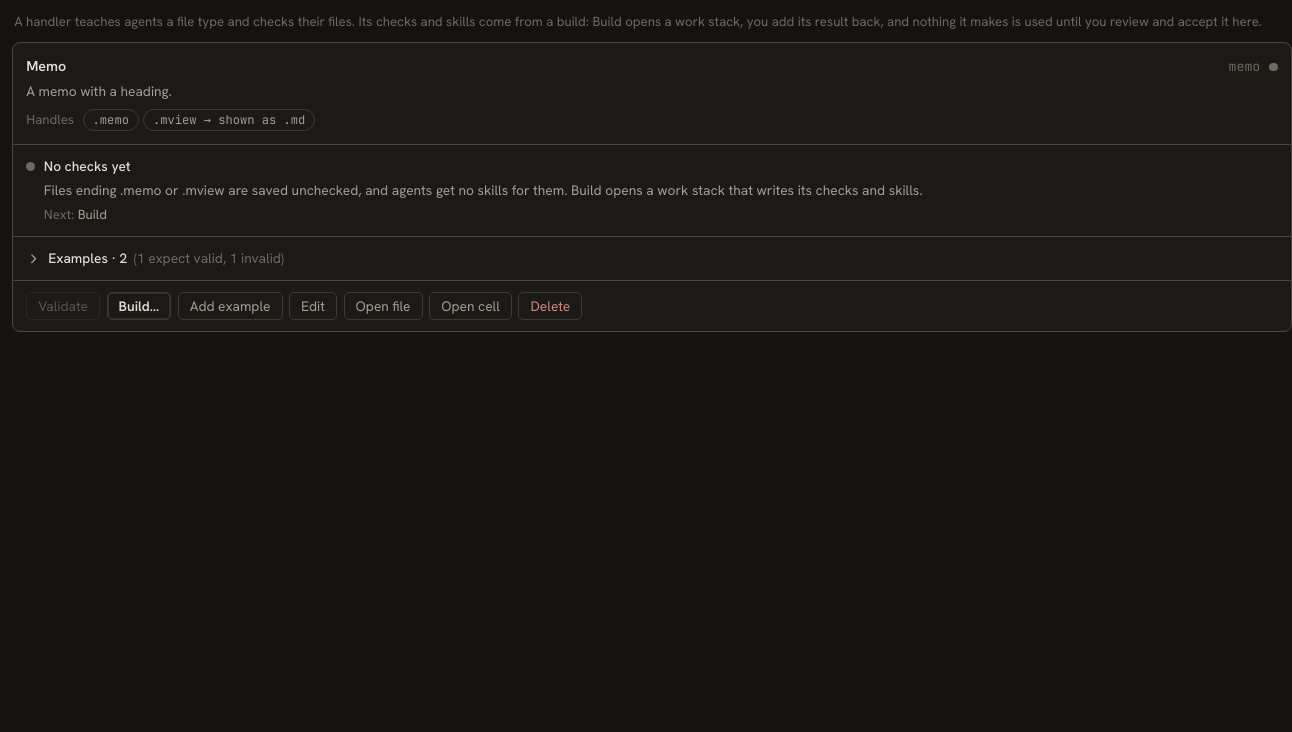
Test case: A user handler’s card › a failed spawn stays on the card as an alert
The image size is (1292, 732).
expect the element named "Memo handler" is shown: met, box top-left (12, 42), bottom-right (1291, 332)
Click the button "Build…" at (139, 306), box top-left (107, 292), bottom-right (171, 320)
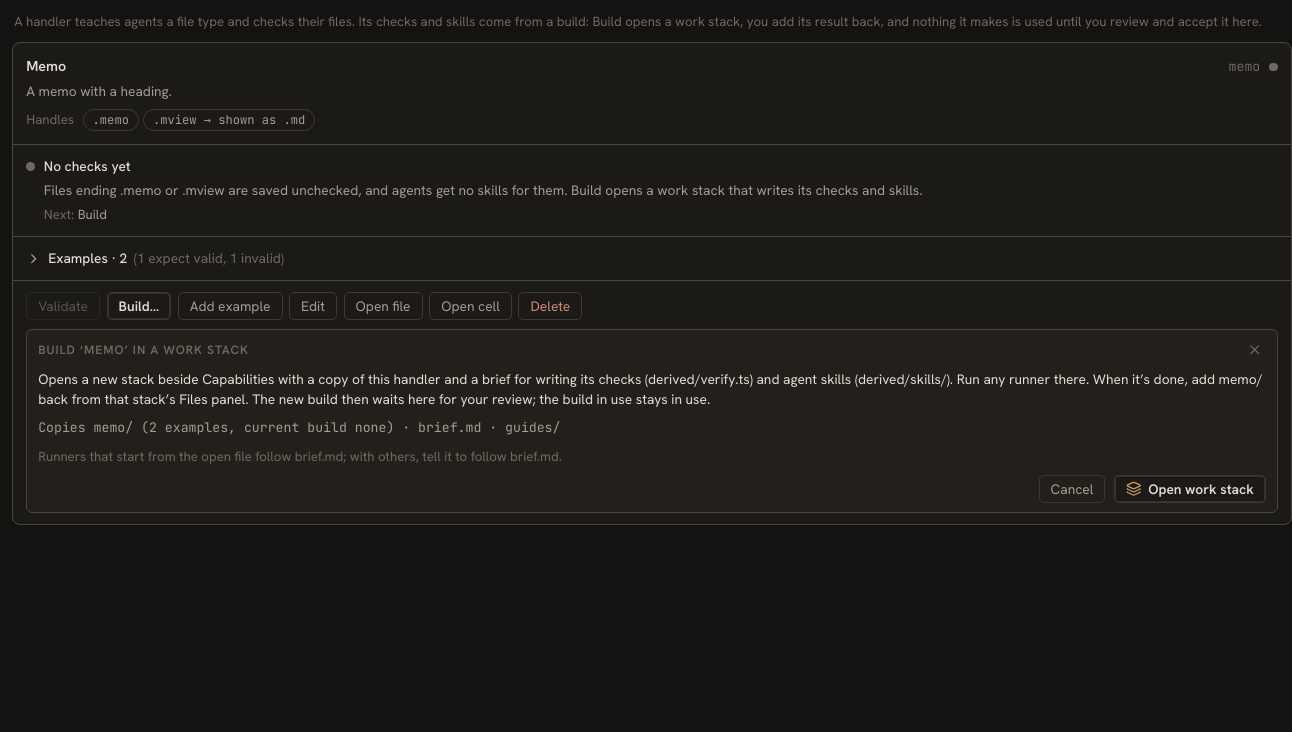
Click the button "Open work stack" at (1190, 489), box top-left (1114, 475), bottom-right (1266, 503)
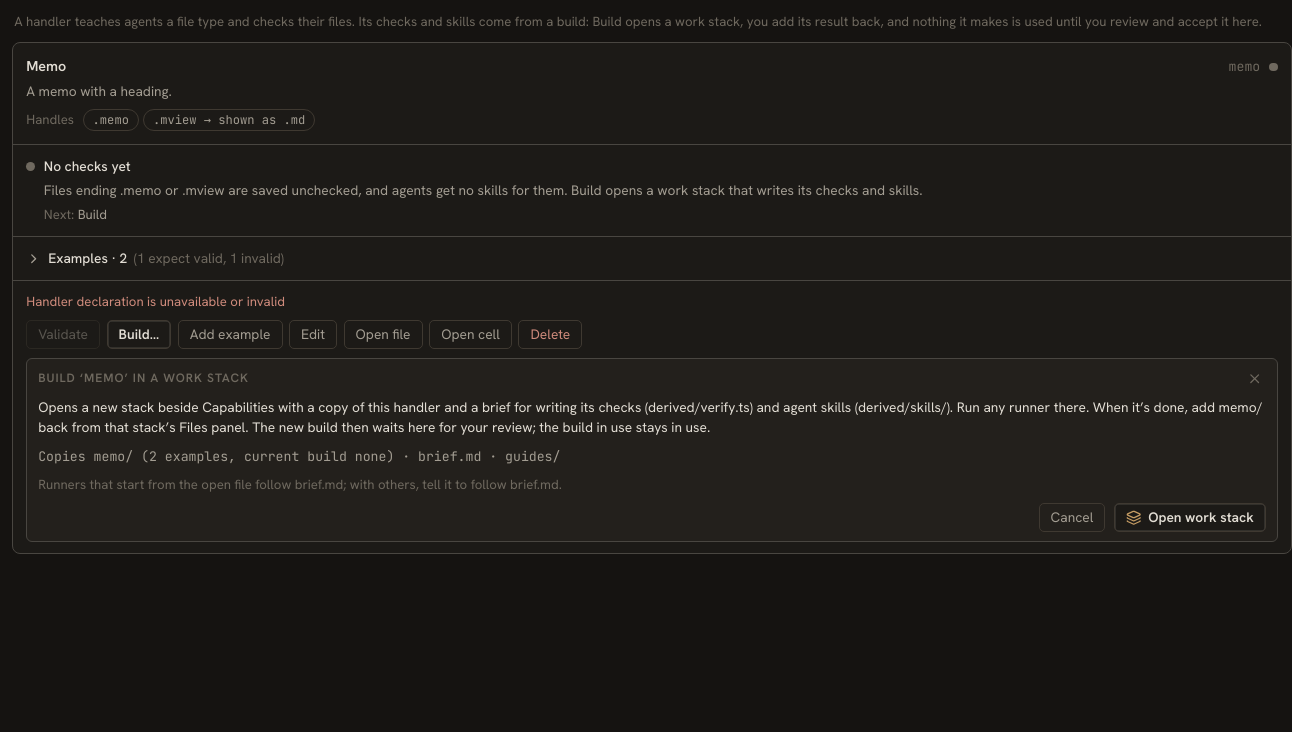
expect the message reads "Handler declaration is unavailable or invalid": met, box top-left (26, 293), bottom-right (285, 310)
